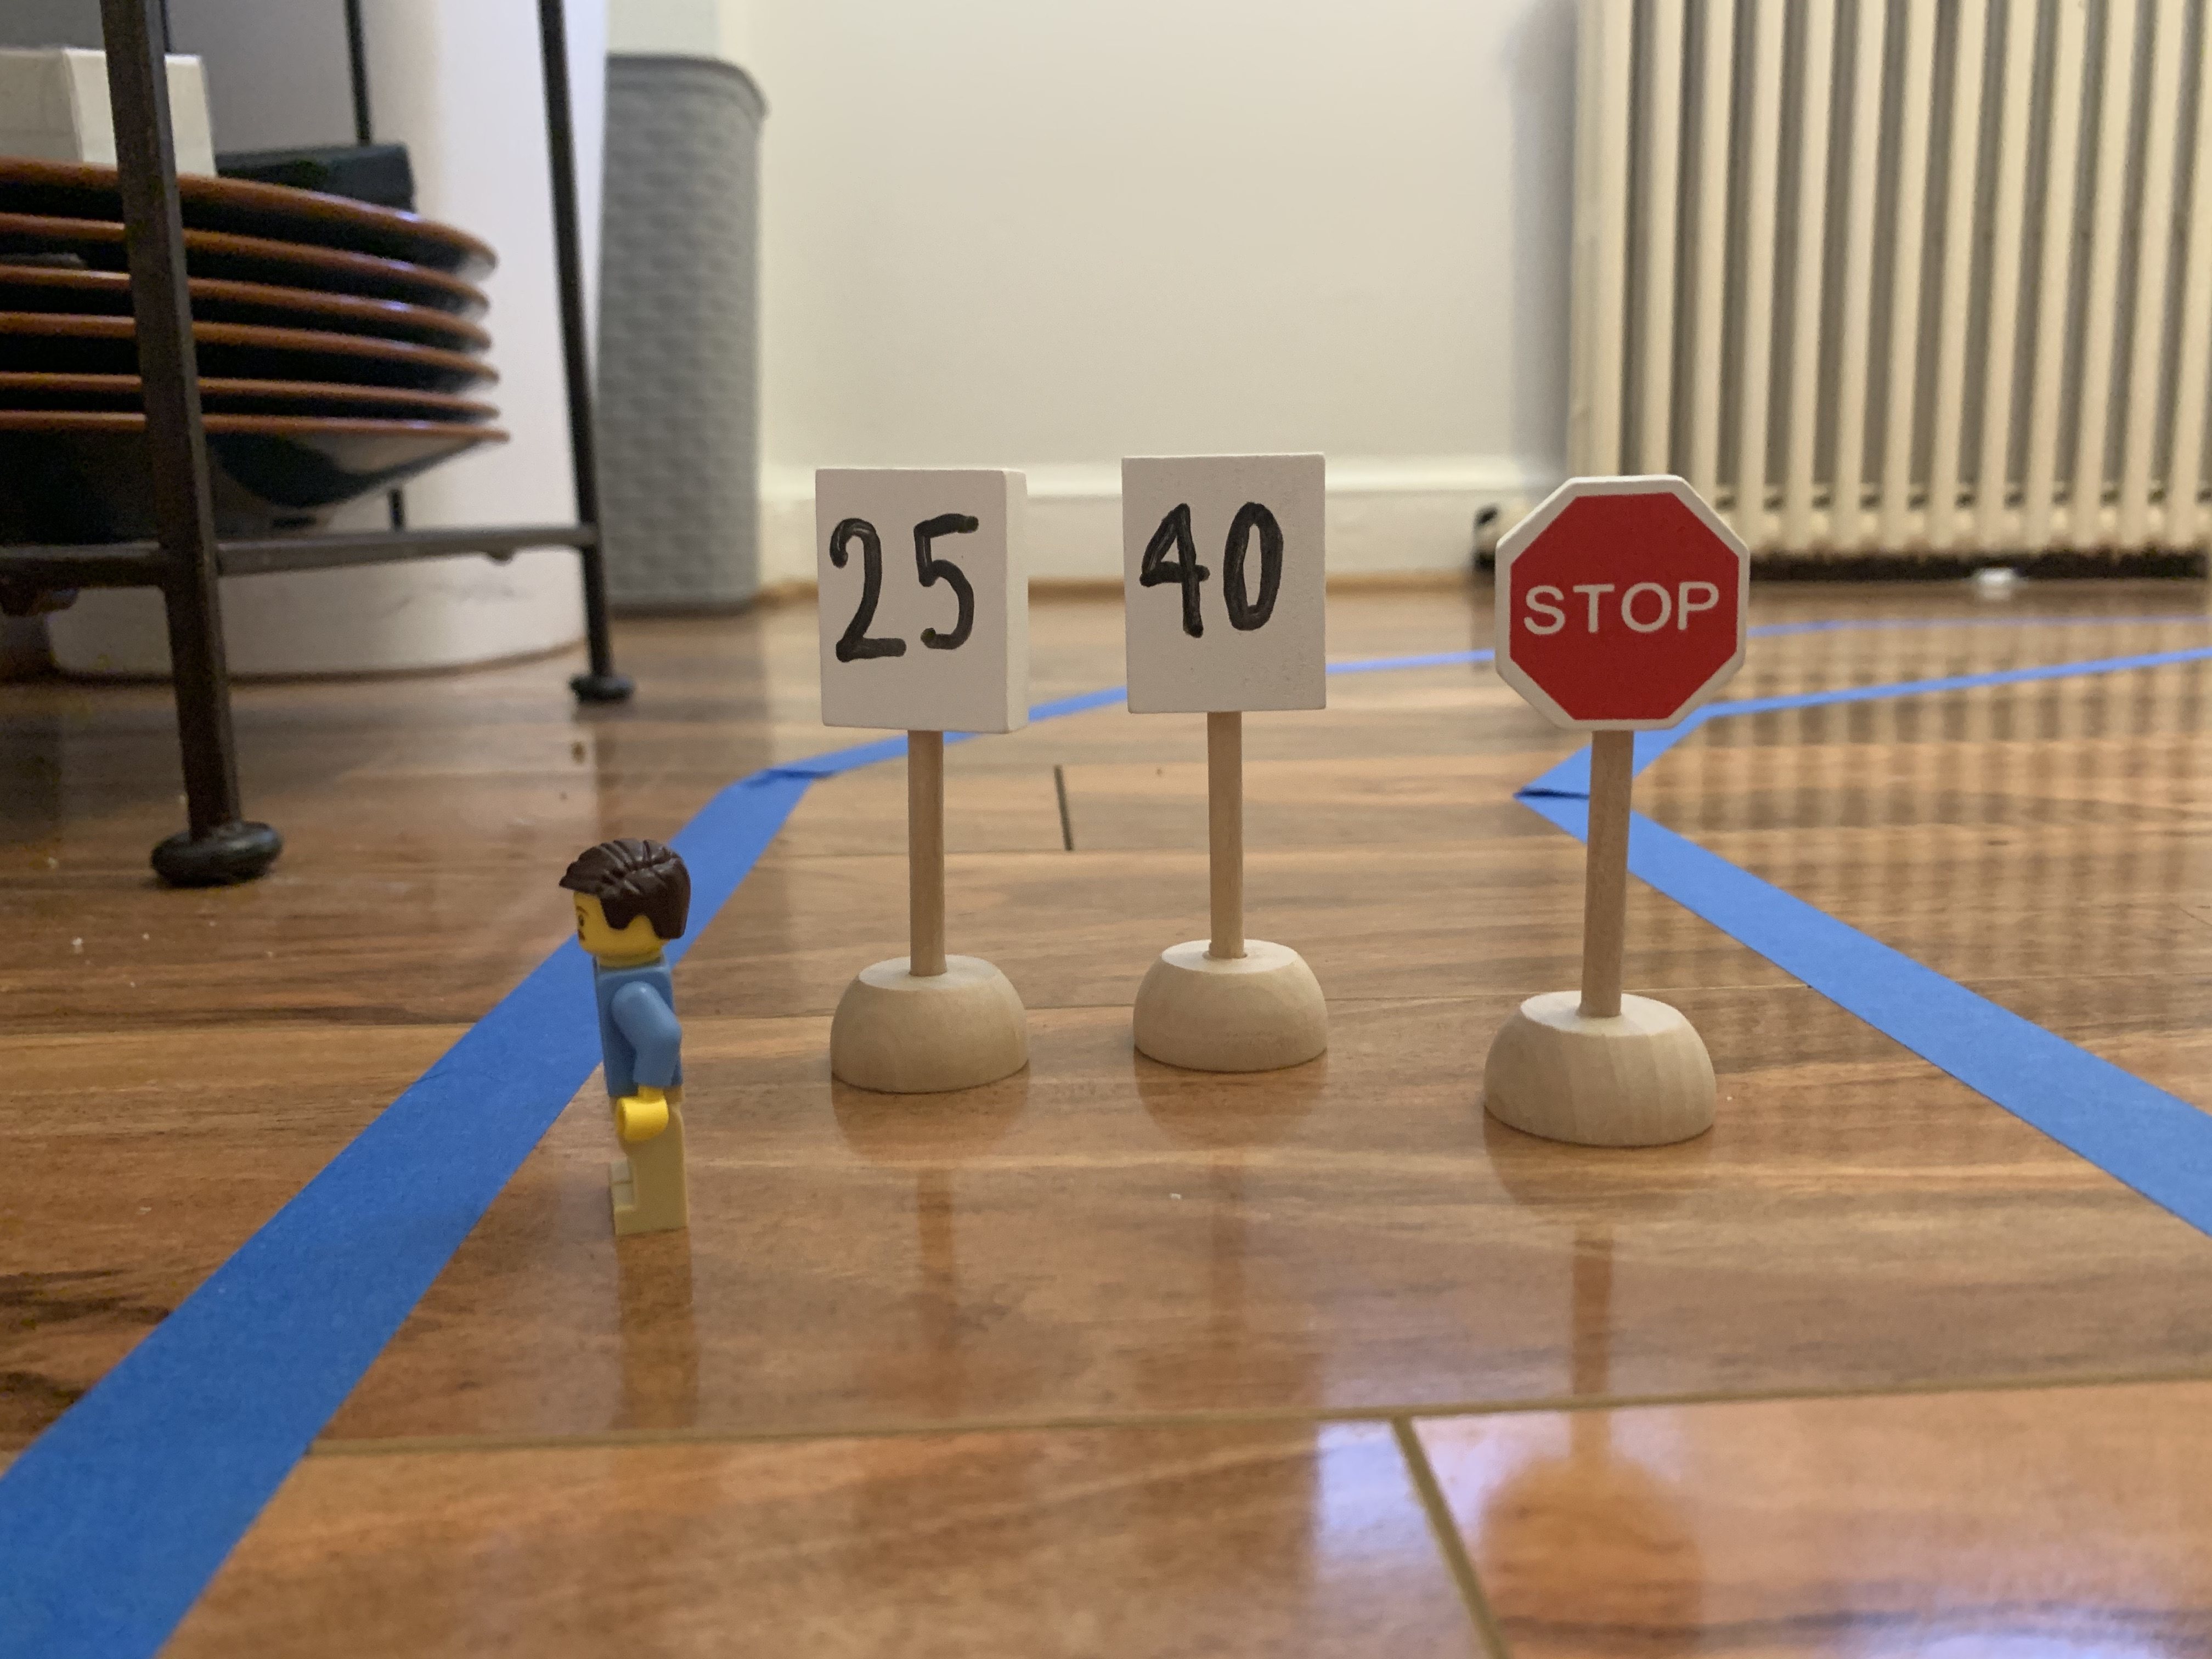Person: (554, 825, 728, 1271)
Speed Limit 25: (812, 471, 1012, 727)
Speed Limit 40: (1120, 466, 1325, 710)
Stop Sign: (1492, 472, 1750, 740)
